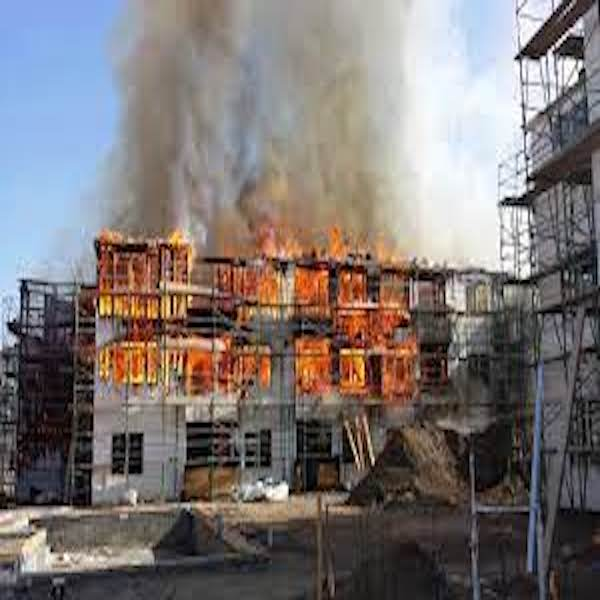fire: (231, 220, 400, 258), (100, 233, 169, 315), (102, 341, 159, 384), (344, 280, 372, 347), (296, 337, 334, 383), (379, 284, 406, 347), (295, 267, 330, 315), (242, 266, 282, 306), (342, 351, 365, 386)
